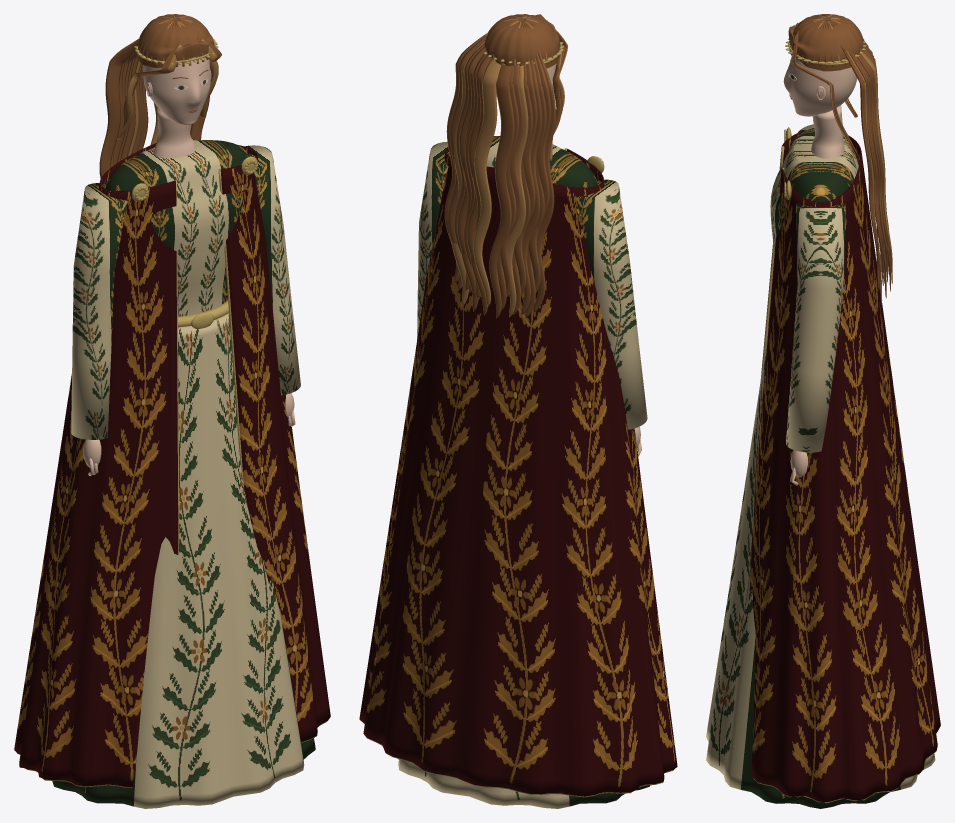
File: princess-v18-standing.glb
The picture shows the model from 3 angles, left to right: view 1: azimuth 30°, elevation 25°; view 2: azimuth 150°, elevation 25°; view 3: azimuth 270°, elevation 25°; orthographic projection.
Parts seen in each view (by area): view 1: cape_surface, MorrisPrincess_surface, body_surface, head_surface, armL_surface, armR_surface; view 2: cape_surface, head_surface, armL_surface, MorrisPrincess_surface, armR_surface, body_surface; view 3: cape_surface, MorrisPrincess_surface, armR_surface, head_surface, body_surface.
Part boxes in pixels (box(x1,y1,x2,y2)): cape_surface: box(14, 143, 330, 787); MorrisPrincess_surface: box(52, 313, 315, 808); body_surface: box(105, 108, 257, 328); head_surface: box(99, 14, 221, 178); armL_surface: box(71, 183, 127, 475); armR_surface: box(245, 145, 300, 426); cape_surface: box(359, 147, 677, 797); head_surface: box(444, 14, 567, 318); armL_surface: box(576, 179, 647, 456); MorrisPrincess_surface: box(398, 759, 650, 808); armR_surface: box(417, 142, 449, 339); body_surface: box(486, 136, 604, 187); cape_surface: box(749, 130, 940, 803); MorrisPrincess_surface: box(706, 326, 935, 808); armR_surface: box(786, 203, 845, 485); head_surface: box(783, 14, 892, 304); body_surface: box(770, 105, 858, 299).
Size of the model in its own units: 0.6912 by 1.66 by 0.4759.
Materials: 12 (2 with a texture image).
